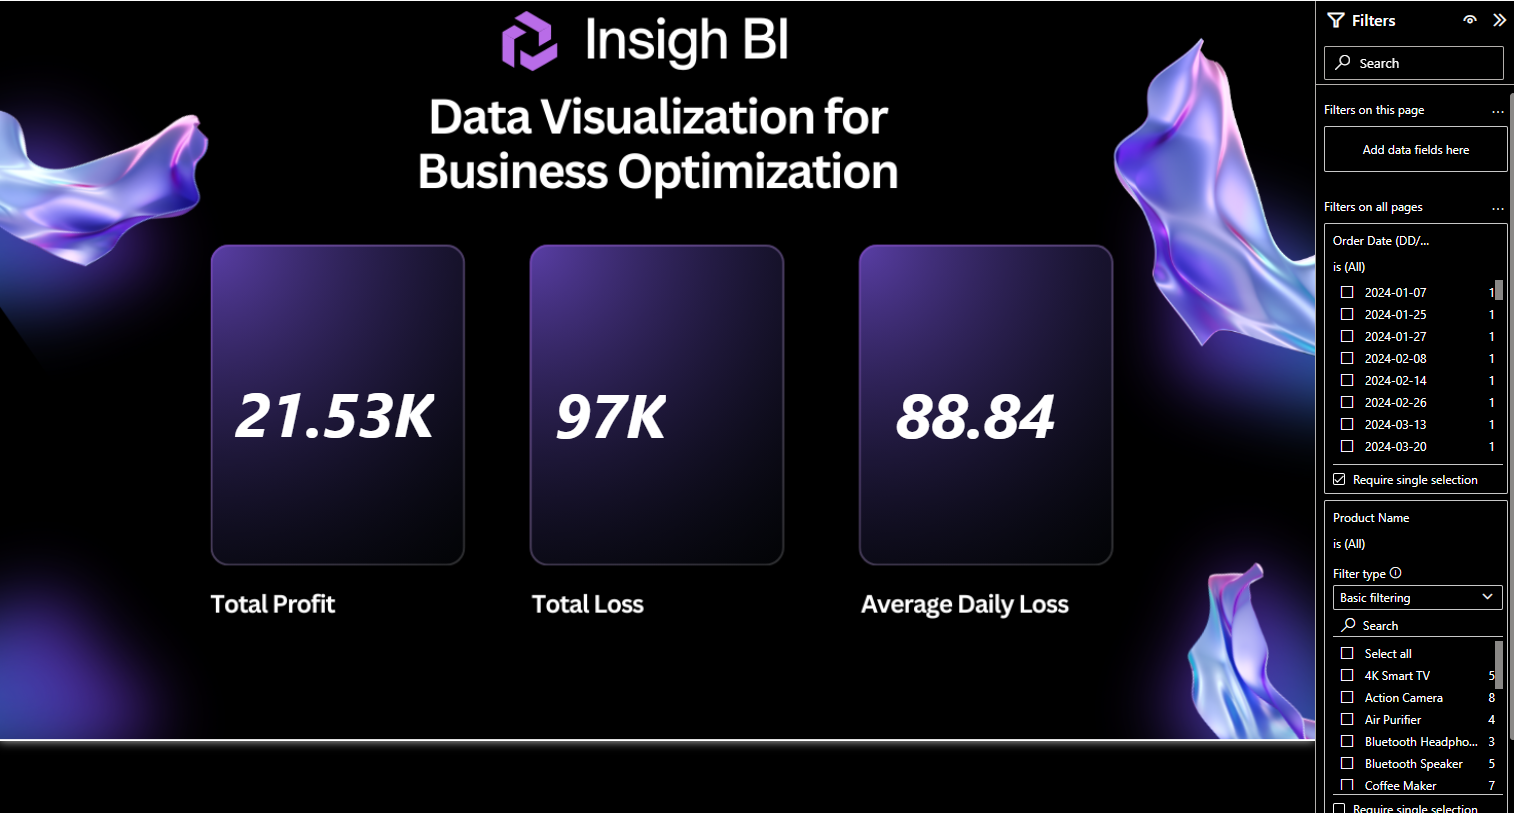

The page's visual inventory and layout, read from the dashboard file:
{"tool":"powerbi","page":{"name":"Page 2","canvas":[1280,720],"ordinal":1},"visuals":[{"type":"cardVisual","fields":{"Data":["Measure Table.Total Profit"]},"box":[200.4,308.6,352,180],"z":0},{"type":"cardVisual","fields":{"Data":["Measure Table.Total Loss"]},"box":[511.6,309.5,352,180],"z":1},{"type":"cardVisual","fields":{"Data":["Measure Table.Average Loss Per Day"]},"box":[843.3,309.5,352,180],"z":2}]}

Visuals, with their boxes on the page's 1280x720 design canvas (x1, y1, x2, y2). These are canvas units, not pixel positions in the 1514x813 screenshot, which may show the page scaled, cropped or inside an application window:
cardVisual - Measure Table.Total Profit: locate(200, 309, 552, 489)
cardVisual - Measure Table.Total Loss: locate(512, 310, 864, 490)
cardVisual - Measure Table.Average Loss Per Day: locate(843, 310, 1195, 490)
